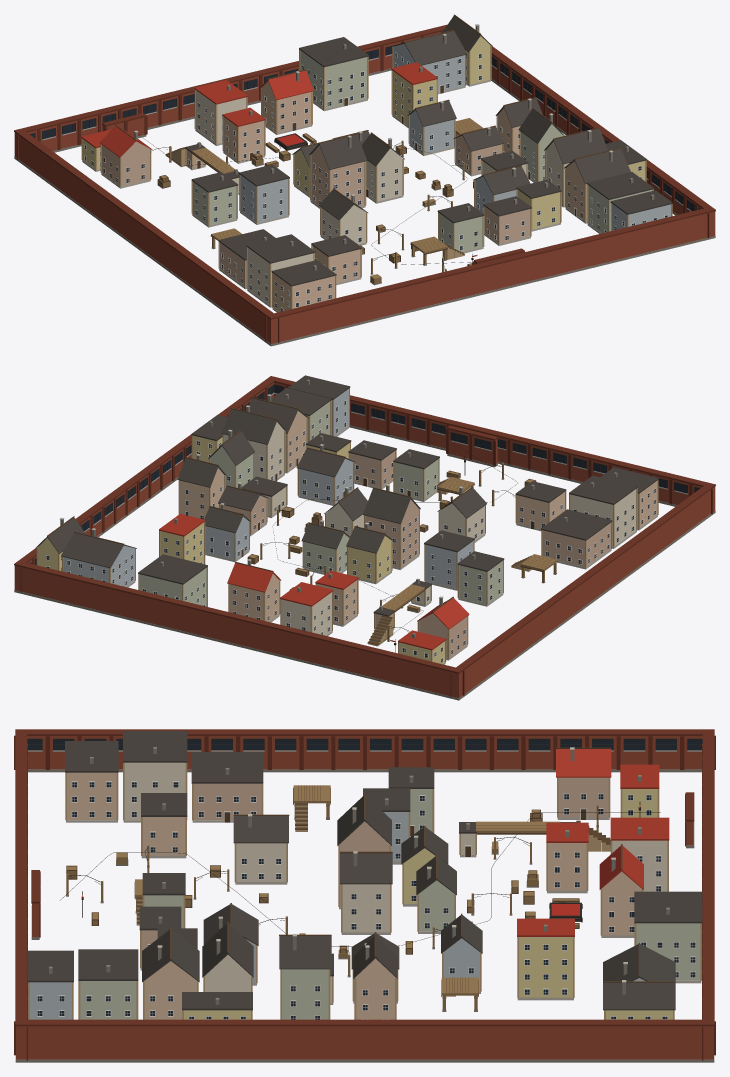
The model's file is bonde.glb.
The picture shows the model from 3 angles, top to bottom: view 1: azimuth 30°, elevation 25°; view 2: azimuth 150°, elevation 25°; view 3: azimuth 270°, elevation 25°; orthographic projection. The views are drawn at different scales.
Visible parts, largest first — view 1: map_brick.001, map_roof_slate.001, map_brick_d.001, map_wall_2.001, map_wall_1.001, map_wall_5.001, map_wall_0.001, map_wall_3.001, map_wood_light.001, map_trim.001, map_glass.001, map_wall_4.001 (+6 smaller); view 2: map_brick.001, map_roof_slate.001, map_brick_d.001, map_wall_0.001, map_wall_2.001, map_wall_1.001, map_wall_5.001, map_wall_3.001, map_glass.001, map_wood_light.001, map_trim.001, map_roof_red.001 (+6 smaller); view 3: map_roof_slate.001, map_brick.001, map_brick_d.001, map_wall_1.001, map_wall_2.001, map_wall_0.001, map_glass.001, map_roof_red.001, map_stone_dark.001, map_wall_4.001, map_wood_light.001, map_wall_5.001 (+7 smaller).
Boxes of the visible parts, x1,y1,x2,y2 form: map_brick.001: (14, 32, 715, 343); map_roof_slate.001: (185, 16, 672, 286); map_brick_d.001: (14, 24, 715, 342); map_wall_2.001: (193, 50, 652, 251); map_wall_1.001: (223, 81, 587, 311); map_wall_5.001: (102, 135, 530, 286); map_wall_0.001: (196, 90, 569, 305); map_wall_3.001: (240, 44, 670, 230); map_wood_light.001: (81, 45, 672, 309); map_trim.001: (84, 52, 668, 311); map_glass.001: (30, 47, 699, 311); map_wall_4.001: (82, 36, 645, 229); map_brick.001: (14, 382, 715, 698); map_roof_slate.001: (36, 375, 658, 616); map_brick_d.001: (14, 376, 715, 697); map_wall_0.001: (224, 422, 636, 635); map_wall_2.001: (139, 401, 502, 606); map_wall_1.001: (180, 411, 657, 624); map_wall_5.001: (220, 451, 610, 658); map_wall_3.001: (63, 389, 473, 588); map_glass.001: (30, 385, 699, 662); map_wood_light.001: (36, 388, 658, 662); map_trim.001: (46, 399, 655, 663); map_roof_red.001: (159, 457, 469, 650); map_roof_slate.001: (27, 731, 702, 1010); map_brick.001: (16, 736, 713, 1059); map_brick_d.001: (14, 729, 715, 1060); map_wall_1.001: (67, 772, 641, 1019); map_wall_2.001: (80, 789, 700, 1019); map_wall_0.001: (124, 762, 667, 1002); map_glass.001: (27, 740, 702, 1019); map_roof_red.001: (82, 749, 669, 936); map_stone_dark.001: (15, 747, 714, 1062); map_wall_4.001: (184, 789, 672, 1019); map_wood_light.001: (28, 762, 701, 1019); map_wall_5.001: (141, 777, 608, 967).
Bounding box in the file's own units: 133 × 20.38 × 133.
